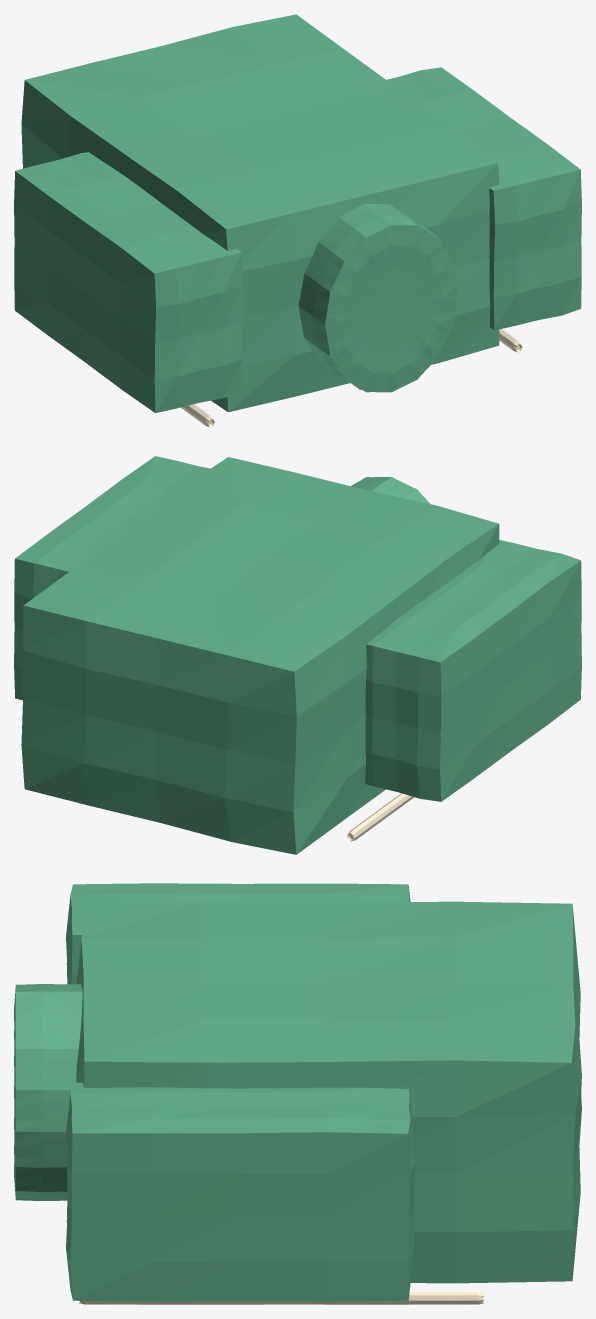
File: camiseta-verde.glb
The picture shows the model from 3 angles, top to bottom: view 1: azimuth 30°, elevation 25°; view 2: azimuth 150°, elevation 25°; view 3: azimuth 270°, elevation 25°; orthographic projection. The views are drawn at different scales.
Visible parts, largest first — view 1: camiseta-verde_00, camiseta-verde_02, camiseta-verde_01, camiseta-verde_03; view 2: camiseta-verde_00, camiseta-verde_02, camiseta-verde_03, camiseta-verde_01, Detalle_01; view 3: camiseta-verde_00, camiseta-verde_03, camiseta-verde_01, camiseta-verde_02, Detalle_02.
Boxes of the visible parts, x1,y1,x2,y2 form: camiseta-verde_00: [21, 14, 499, 412]; camiseta-verde_02: [14, 152, 242, 412]; camiseta-verde_01: [298, 204, 458, 392]; camiseta-verde_03: [386, 67, 581, 330]; camiseta-verde_00: [21, 457, 499, 854]; camiseta-verde_02: [365, 540, 581, 801]; camiseta-verde_03: [14, 456, 210, 700]; camiseta-verde_01: [351, 476, 430, 503]; Detalle_01: [347, 793, 414, 841]; camiseta-verde_00: [76, 901, 581, 1283]; camiseta-verde_03: [66, 1082, 414, 1301]; camiseta-verde_01: [14, 984, 82, 1200]; camiseta-verde_02: [66, 883, 410, 984]; Detalle_02: [79, 1291, 484, 1304].
Size of the model in its own units: 1.17 by 0.5406 by 1.12.
